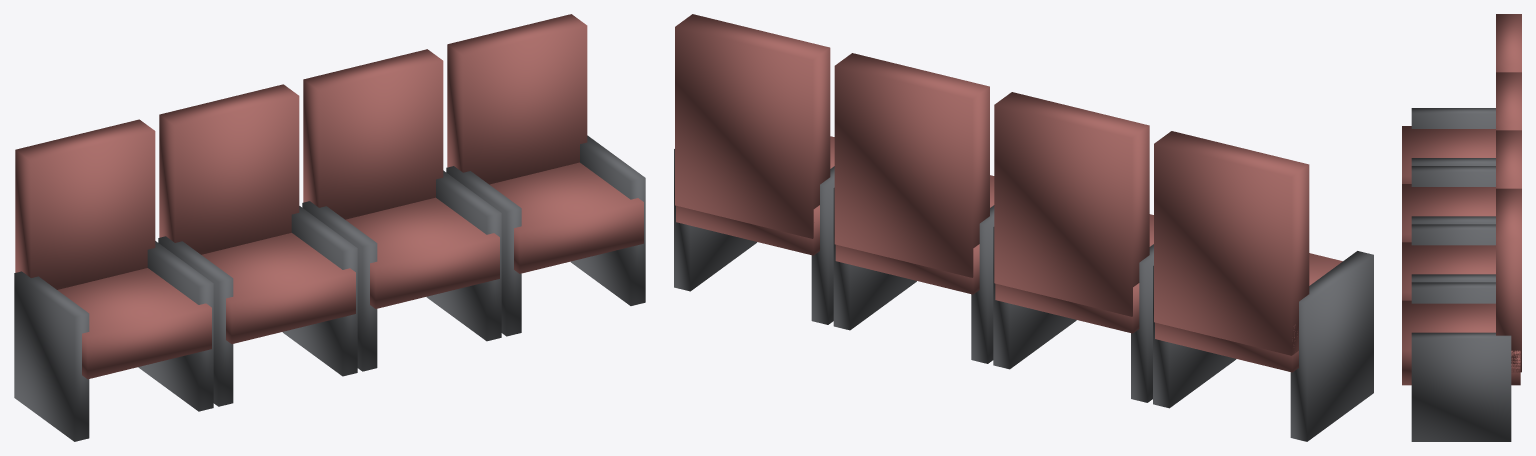
Rendered from theater_seat_row.glb.
3 views of the same model, side by side, from view 1: azimuth 30°, elevation 25°; view 2: azimuth 150°, elevation 25°; view 3: azimuth 270°, elevation 25° (orthographic). The views are drawn at different scales.
Parts seen in each view (by area): view 1: world; view 2: world; view 3: world.
Part boxes in pixels (<box>): world: <box>14,14,645,441</box>; world: <box>674,14,1373,441</box>; world: <box>1402,14,1521,441</box>.
Size of the model in its own units: 2.3 by 0.93 by 0.505.
